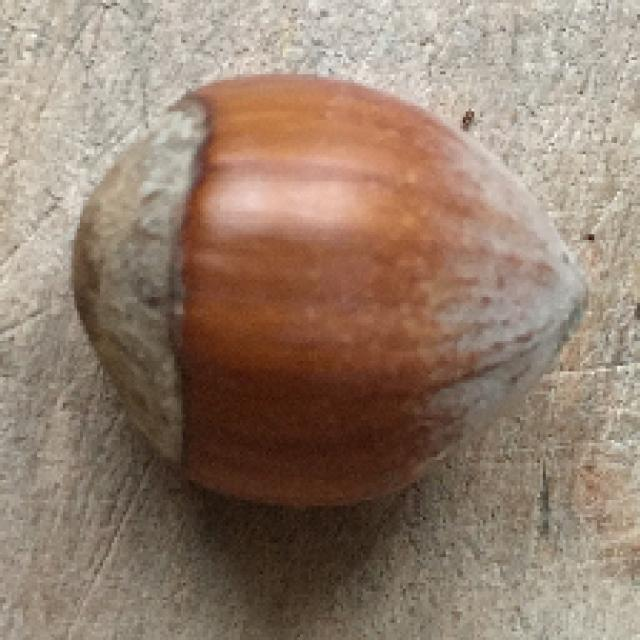QualityHazelnut: (68, 69, 592, 507)
